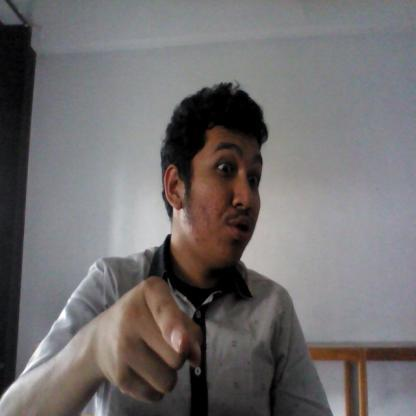Kamu: (83, 264, 217, 408)
